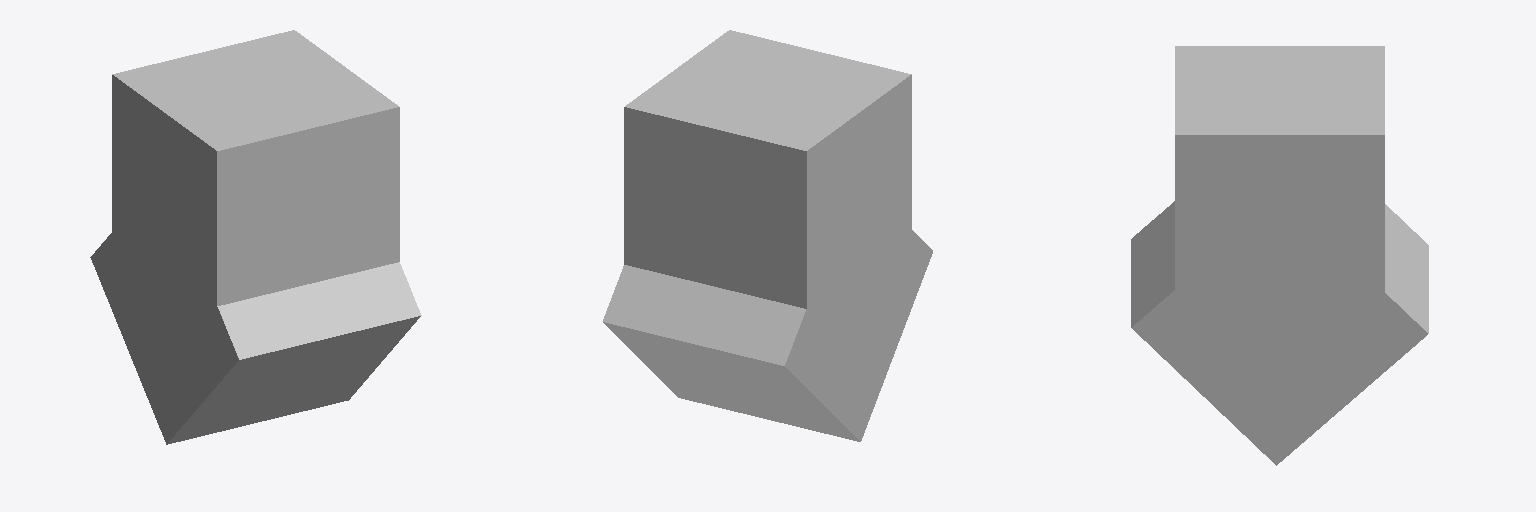
File: targetposarrow.obj
3 renders of one model, left to right at view 1: azimuth 30°, elevation 25°; view 2: azimuth 150°, elevation 25°; view 3: azimuth 270°, elevation 25°, orthographic.
Visible parts, largest first — view 1: group1 pCube3, pCube2 group1; view 2: group1 pCube3, pCube2 group1; view 3: group1 pCube3, pCube2 group1.
Boxes of the visible parts, box(x1,y1,x2,y2) form: group1 pCube3: box(112, 30, 399, 340); pCube2 group1: box(90, 176, 421, 444); group1 pCube3: box(624, 30, 911, 335); pCube2 group1: box(603, 175, 932, 441); group1 pCube3: box(1175, 46, 1384, 325); pCube2 group1: box(1131, 197, 1428, 465).
Bounding box in the file's own units: 1 × 1.73 × 1.41.